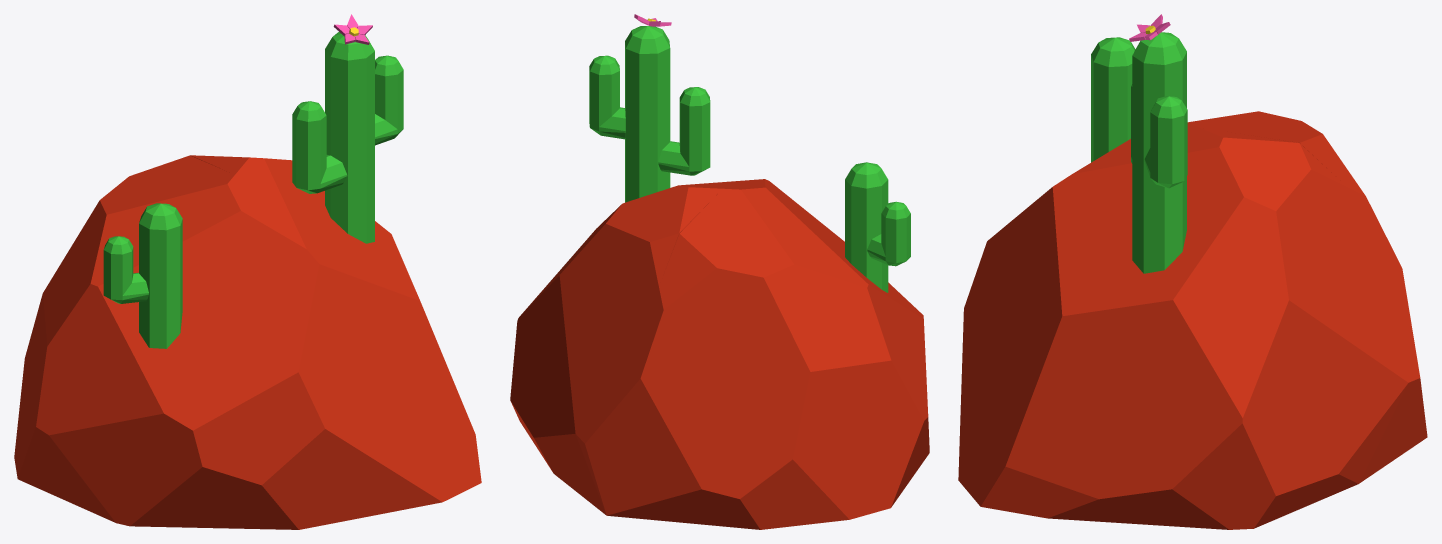
File: CactusBoulder_Split.fbx
3 renders of one model, left to right at view 1: azimuth 30°, elevation 25°; view 2: azimuth 150°, elevation 25°; view 3: azimuth 270°, elevation 25°, orthographic. The views are drawn at different scales.
Visible parts, largest first — view 1: CactusBoulder_PieceA, CactusBoulder_PieceB, CactusBoulder_CactusTall, CactusBoulder_CactusShort, CactusBoulder_Flower_Petals; view 2: CactusBoulder_PieceA, CactusBoulder_PieceB, CactusBoulder_CactusTall, CactusBoulder_CactusShort; view 3: CactusBoulder_PieceB, CactusBoulder_CactusTall, CactusBoulder_PieceA, CactusBoulder_CactusShort.
Part boxes in pixels (<box>): CactusBoulder_PieceA: <box>14,155,342,529</box>; CactusBoulder_PieceB: <box>190,155,481,522</box>; CactusBoulder_CactusTall: <box>292,32,403,243</box>; CactusBoulder_CactusShort: <box>103,203,182,348</box>; CactusBoulder_Flower_Petals: <box>333,14,372,44</box>; CactusBoulder_PieceA: <box>626,182,929,529</box>; CactusBoulder_PieceB: <box>510,179,794,517</box>; CactusBoulder_CactusTall: <box>589,26,710,202</box>; CactusBoulder_CactusShort: <box>845,162,910,292</box>; CactusBoulder_PieceB: <box>958,127,1427,529</box>; CactusBoulder_CactusTall: <box>1131,32,1187,273</box>; CactusBoulder_PieceA: <box>963,111,1404,332</box>; CactusBoulder_CactusShort: <box>1091,37,1135,162</box>.
Size of the model in its own units: 18.5 by 18.3 by 16.88.
